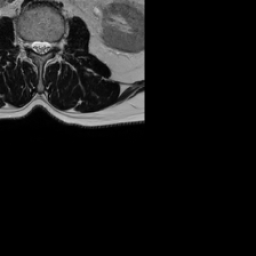CCS_stenosis: (37, 33, 44, 60)
LFS_normal: (51, 33, 58, 55)
LLS_normal: (44, 33, 51, 56)
RFS_normal: (24, 32, 31, 55)
RLS_normal: (31, 33, 37, 57)
